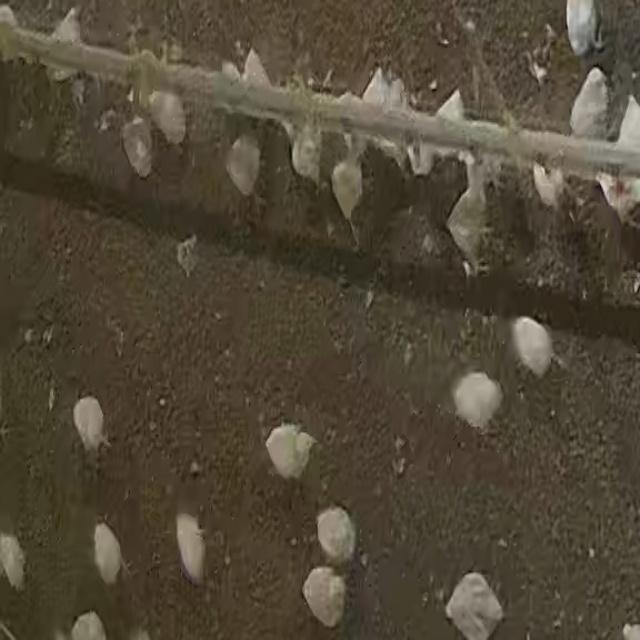chicken: (442, 181, 499, 278), (445, 572, 504, 640), (452, 371, 506, 432), (568, 66, 612, 139), (508, 314, 554, 380), (270, 426, 323, 480), (326, 155, 369, 221), (301, 565, 346, 627), (174, 507, 207, 584), (315, 507, 356, 565), (146, 89, 186, 148), (72, 396, 108, 458), (225, 136, 261, 198), (565, 1, 603, 57), (93, 522, 125, 588), (0, 532, 28, 591), (614, 96, 640, 155)
